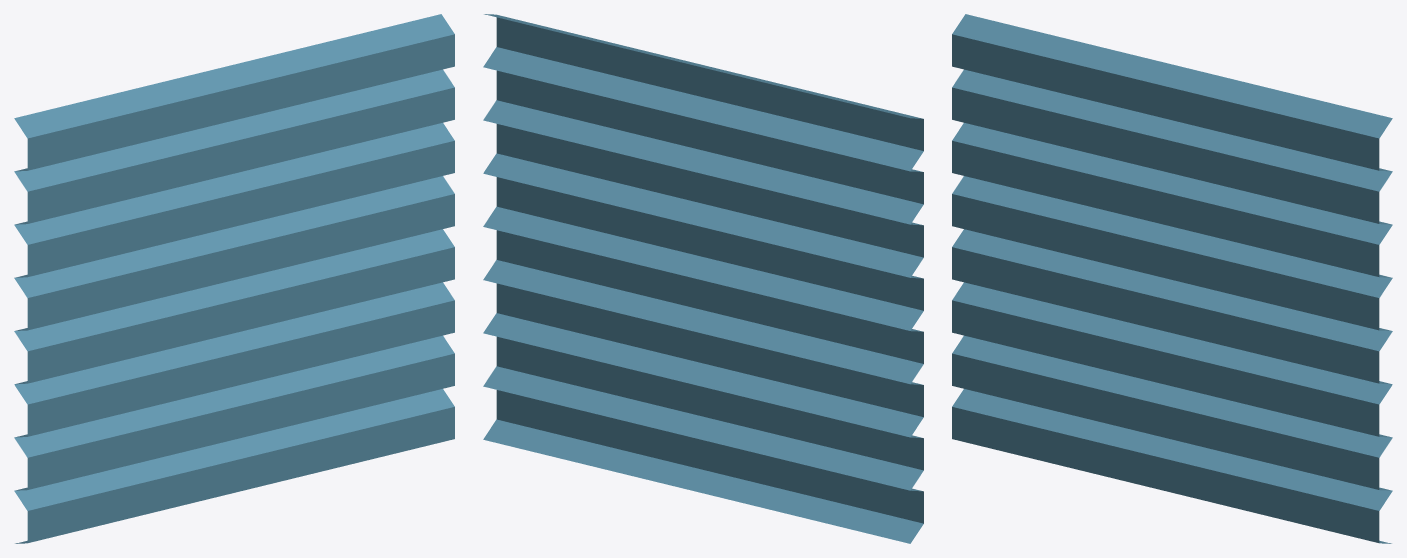
File: SM_Bld_Window_Cover_Glass_01.glb
3 views of the same model, side by side, from view 1: azimuth 30°, elevation 25°; view 2: azimuth 150°, elevation 25°; view 3: azimuth 330°, elevation 25° (orthographic).
Parts seen in each view (by area): view 1: SM_Bld_Window_Cover_Glass_01; view 2: SM_Bld_Window_Cover_Glass_01; view 3: SM_Bld_Window_Cover_Glass_01.
Part boxes in pixels (x1,y1,x2,y2): SM_Bld_Window_Cover_Glass_01: (14, 14, 454, 543); SM_Bld_Window_Cover_Glass_01: (483, 14, 923, 543); SM_Bld_Window_Cover_Glass_01: (952, 14, 1392, 543).
Size of the model in its own units: 2.5 by 2.38 by 0.136.
1 material, 1 textured.
